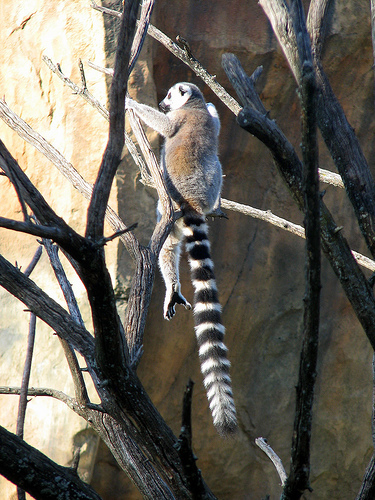cat: (122, 83, 242, 436)
